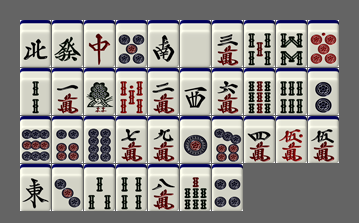0m: (276, 116, 307, 163)
0p: (308, 20, 339, 67)
0s: (116, 68, 147, 115)
1m: (52, 68, 83, 115)
1p: (180, 116, 211, 163)
1s: (84, 68, 115, 115)
1z: (20, 164, 51, 211)
2m: (148, 68, 179, 115)
2p: (308, 68, 339, 115)
2s: (20, 68, 51, 115)
2z: (148, 20, 179, 67)
3m: (212, 20, 243, 67)
3p: (52, 164, 83, 211)
3s: (84, 164, 115, 211)
3z: (180, 68, 211, 115)
4m: (244, 116, 275, 163)
4p: (212, 164, 243, 211)
4s: (116, 164, 147, 211)
4z: (20, 20, 51, 67)
5m: (308, 116, 339, 163)
5p: (116, 20, 147, 67)
5s: (244, 20, 275, 67)
5z: (180, 20, 211, 67)
6m: (212, 68, 243, 115)
6p: (52, 116, 83, 163)
6s: (276, 68, 307, 115)
6z: (52, 20, 83, 67)
7m: (116, 116, 147, 163)
7p: (212, 116, 243, 163)
7s: (180, 164, 211, 211)
7z: (84, 20, 115, 67)
8m: (148, 164, 179, 211)
8p: (84, 116, 115, 163)
8s: (276, 20, 307, 67)
9m: (148, 116, 179, 163)
9p: (20, 116, 51, 163)
9s: (244, 68, 275, 115)
